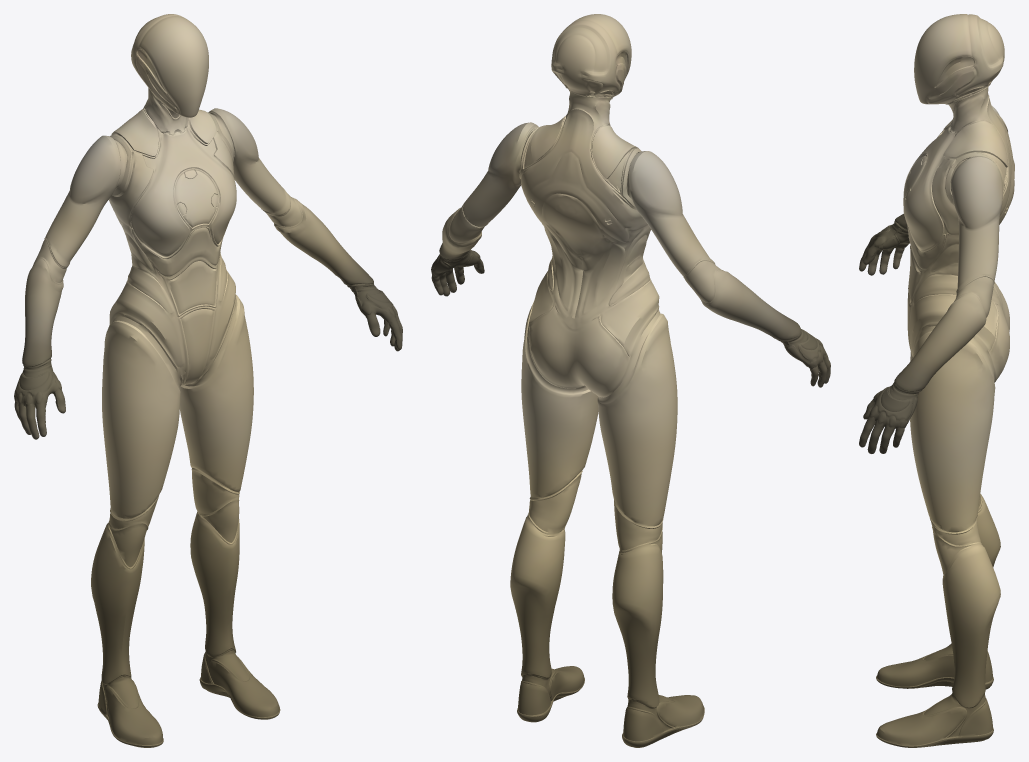
File: mannequin.fbx
3 renders of one model, left to right at view 1: azimuth 30°, elevation 25°; view 2: azimuth 150°, elevation 25°; view 3: azimuth 270°, elevation 25°, orthographic. The views are drawn at different scales.
Parts seen in each view (by area): view 1: StaticMesh; view 2: StaticMesh; view 3: StaticMesh.
Part boxes in pixels (left/top/right/bottom): StaticMesh: left=14, top=14, right=402, bottom=747; StaticMesh: left=431, top=14, right=830, bottom=747; StaticMesh: left=859, top=14, right=1014, bottom=747.
Size of the model in its own units: 1.04 by 1.8 by 0.3659.
